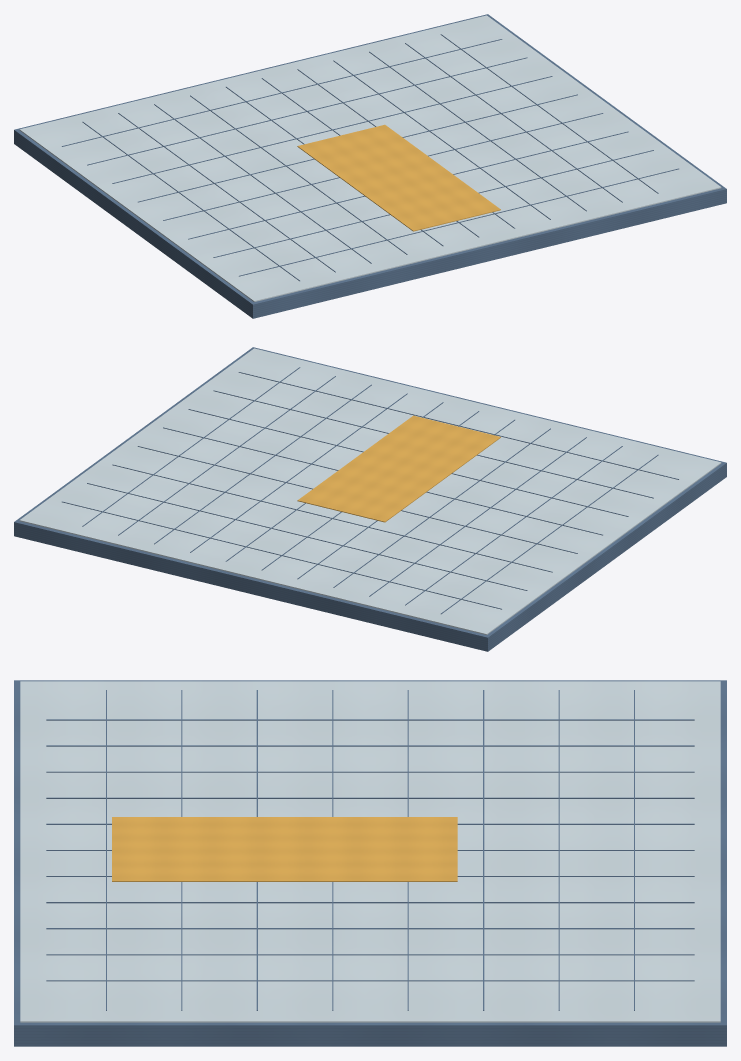
Rendered from atlas100-s054-a07.glb.
3 views of the same model, one above another, from view 1: azimuth 30°, elevation 25°; view 2: azimuth 150°, elevation 25°; view 3: azimuth 270°, elevation 25° (orthographic). The views are drawn at different scales.
Visible parts, largest first — view 1: atlas100-s054-a07:part-001, atlas100-s054-a07:part-000, atlas100-s054-a07:part-021, atlas100-s054-a07:part-020, atlas100-s054-a07:part-013, atlas100-s054-a07:part-014, atlas100-s054-a07:part-015, atlas100-s054-a07:part-018, atlas100-s054-a07:part-017, atlas100-s054-a07:part-019, atlas100-s054-a07:part-016; view 2: atlas100-s054-a07:part-001, atlas100-s054-a07:part-000, atlas100-s054-a07:part-021, atlas100-s054-a07:part-015, atlas100-s054-a07:part-013, atlas100-s054-a07:part-020, atlas100-s054-a07:part-014, atlas100-s054-a07:part-016, atlas100-s054-a07:part-017, atlas100-s054-a07:part-018, atlas100-s054-a07:part-019; view 3: atlas100-s054-a07:part-001, atlas100-s054-a07:part-000, atlas100-s054-a07:part-021, atlas100-s054-a07:part-002, atlas100-s054-a07:part-003, atlas100-s054-a07:part-005, atlas100-s054-a07:part-004, atlas100-s054-a07:part-009, atlas100-s054-a07:part-010, atlas100-s054-a07:part-011, atlas100-s054-a07:part-012, atlas100-s054-a07:part-014 (+2 smaller).
Boxes of the visible parts, x1,y1,x2,y2 form: atlas100-s054-a07:part-001: (19,15,721,301); atlas100-s054-a07:part-000: (14,14,726,318); atlas100-s054-a07:part-021: (297,124,500,231); atlas100-s054-a07:part-020: (239,168,678,276); atlas100-s054-a07:part-013: (62,39,502,146); atlas100-s054-a07:part-014: (87,57,527,165); atlas100-s054-a07:part-015: (112,76,552,183); atlas100-s054-a07:part-018: (188,131,628,239); atlas100-s054-a07:part-017: (163,113,603,220); atlas100-s054-a07:part-019: (213,150,653,257); atlas100-s054-a07:part-016: (138,94,577,202); atlas100-s054-a07:part-001: (19,348,721,634); atlas100-s054-a07:part-000: (14,347,726,651); atlas100-s054-a07:part-021: (297,415,500,522); atlas100-s054-a07:part-015: (112,464,552,572); atlas100-s054-a07:part-013: (62,501,501,609); atlas100-s054-a07:part-020: (238,372,678,479); atlas100-s054-a07:part-014: (87,483,527,590); atlas100-s054-a07:part-016: (137,446,577,553); atlas100-s054-a07:part-017: (163,427,602,535); atlas100-s054-a07:part-018: (188,409,628,516); atlas100-s054-a07:part-019: (213,390,653,498); atlas100-s054-a07:part-001: (20,681,720,1022); atlas100-s054-a07:part-000: (14,680,726,1046); atlas100-s054-a07:part-021: (112,817,457,881); atlas100-s054-a07:part-002: (46,719,694,720); atlas100-s054-a07:part-003: (46,745,694,746); atlas100-s054-a07:part-005: (46,797,694,798); atlas100-s054-a07:part-004: (46,771,694,772); atlas100-s054-a07:part-009: (46,902,694,903); atlas100-s054-a07:part-010: (46,928,694,929); atlas100-s054-a07:part-011: (46,954,694,955); atlas100-s054-a07:part-012: (46,980,694,981); atlas100-s054-a07:part-014: (558,690,559,1010).
Bounding box in the file's own units: 11.9 × 0.404 × 10.4.
3 materials, 3 textured.
